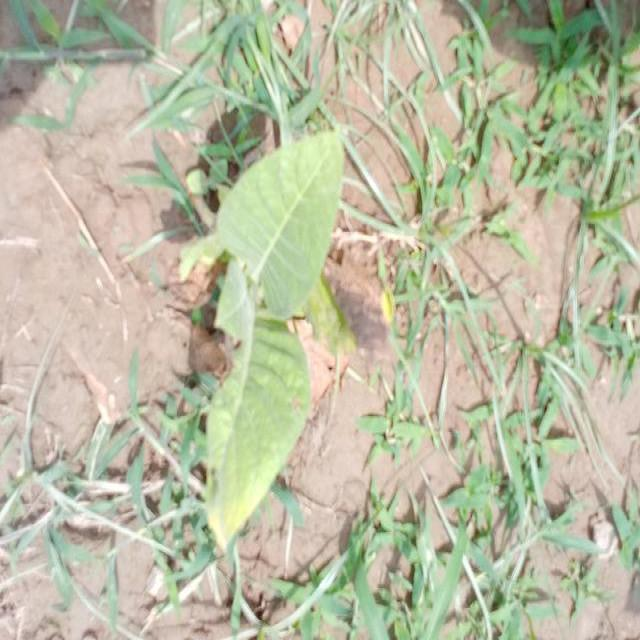crop: (194, 121, 344, 532)
